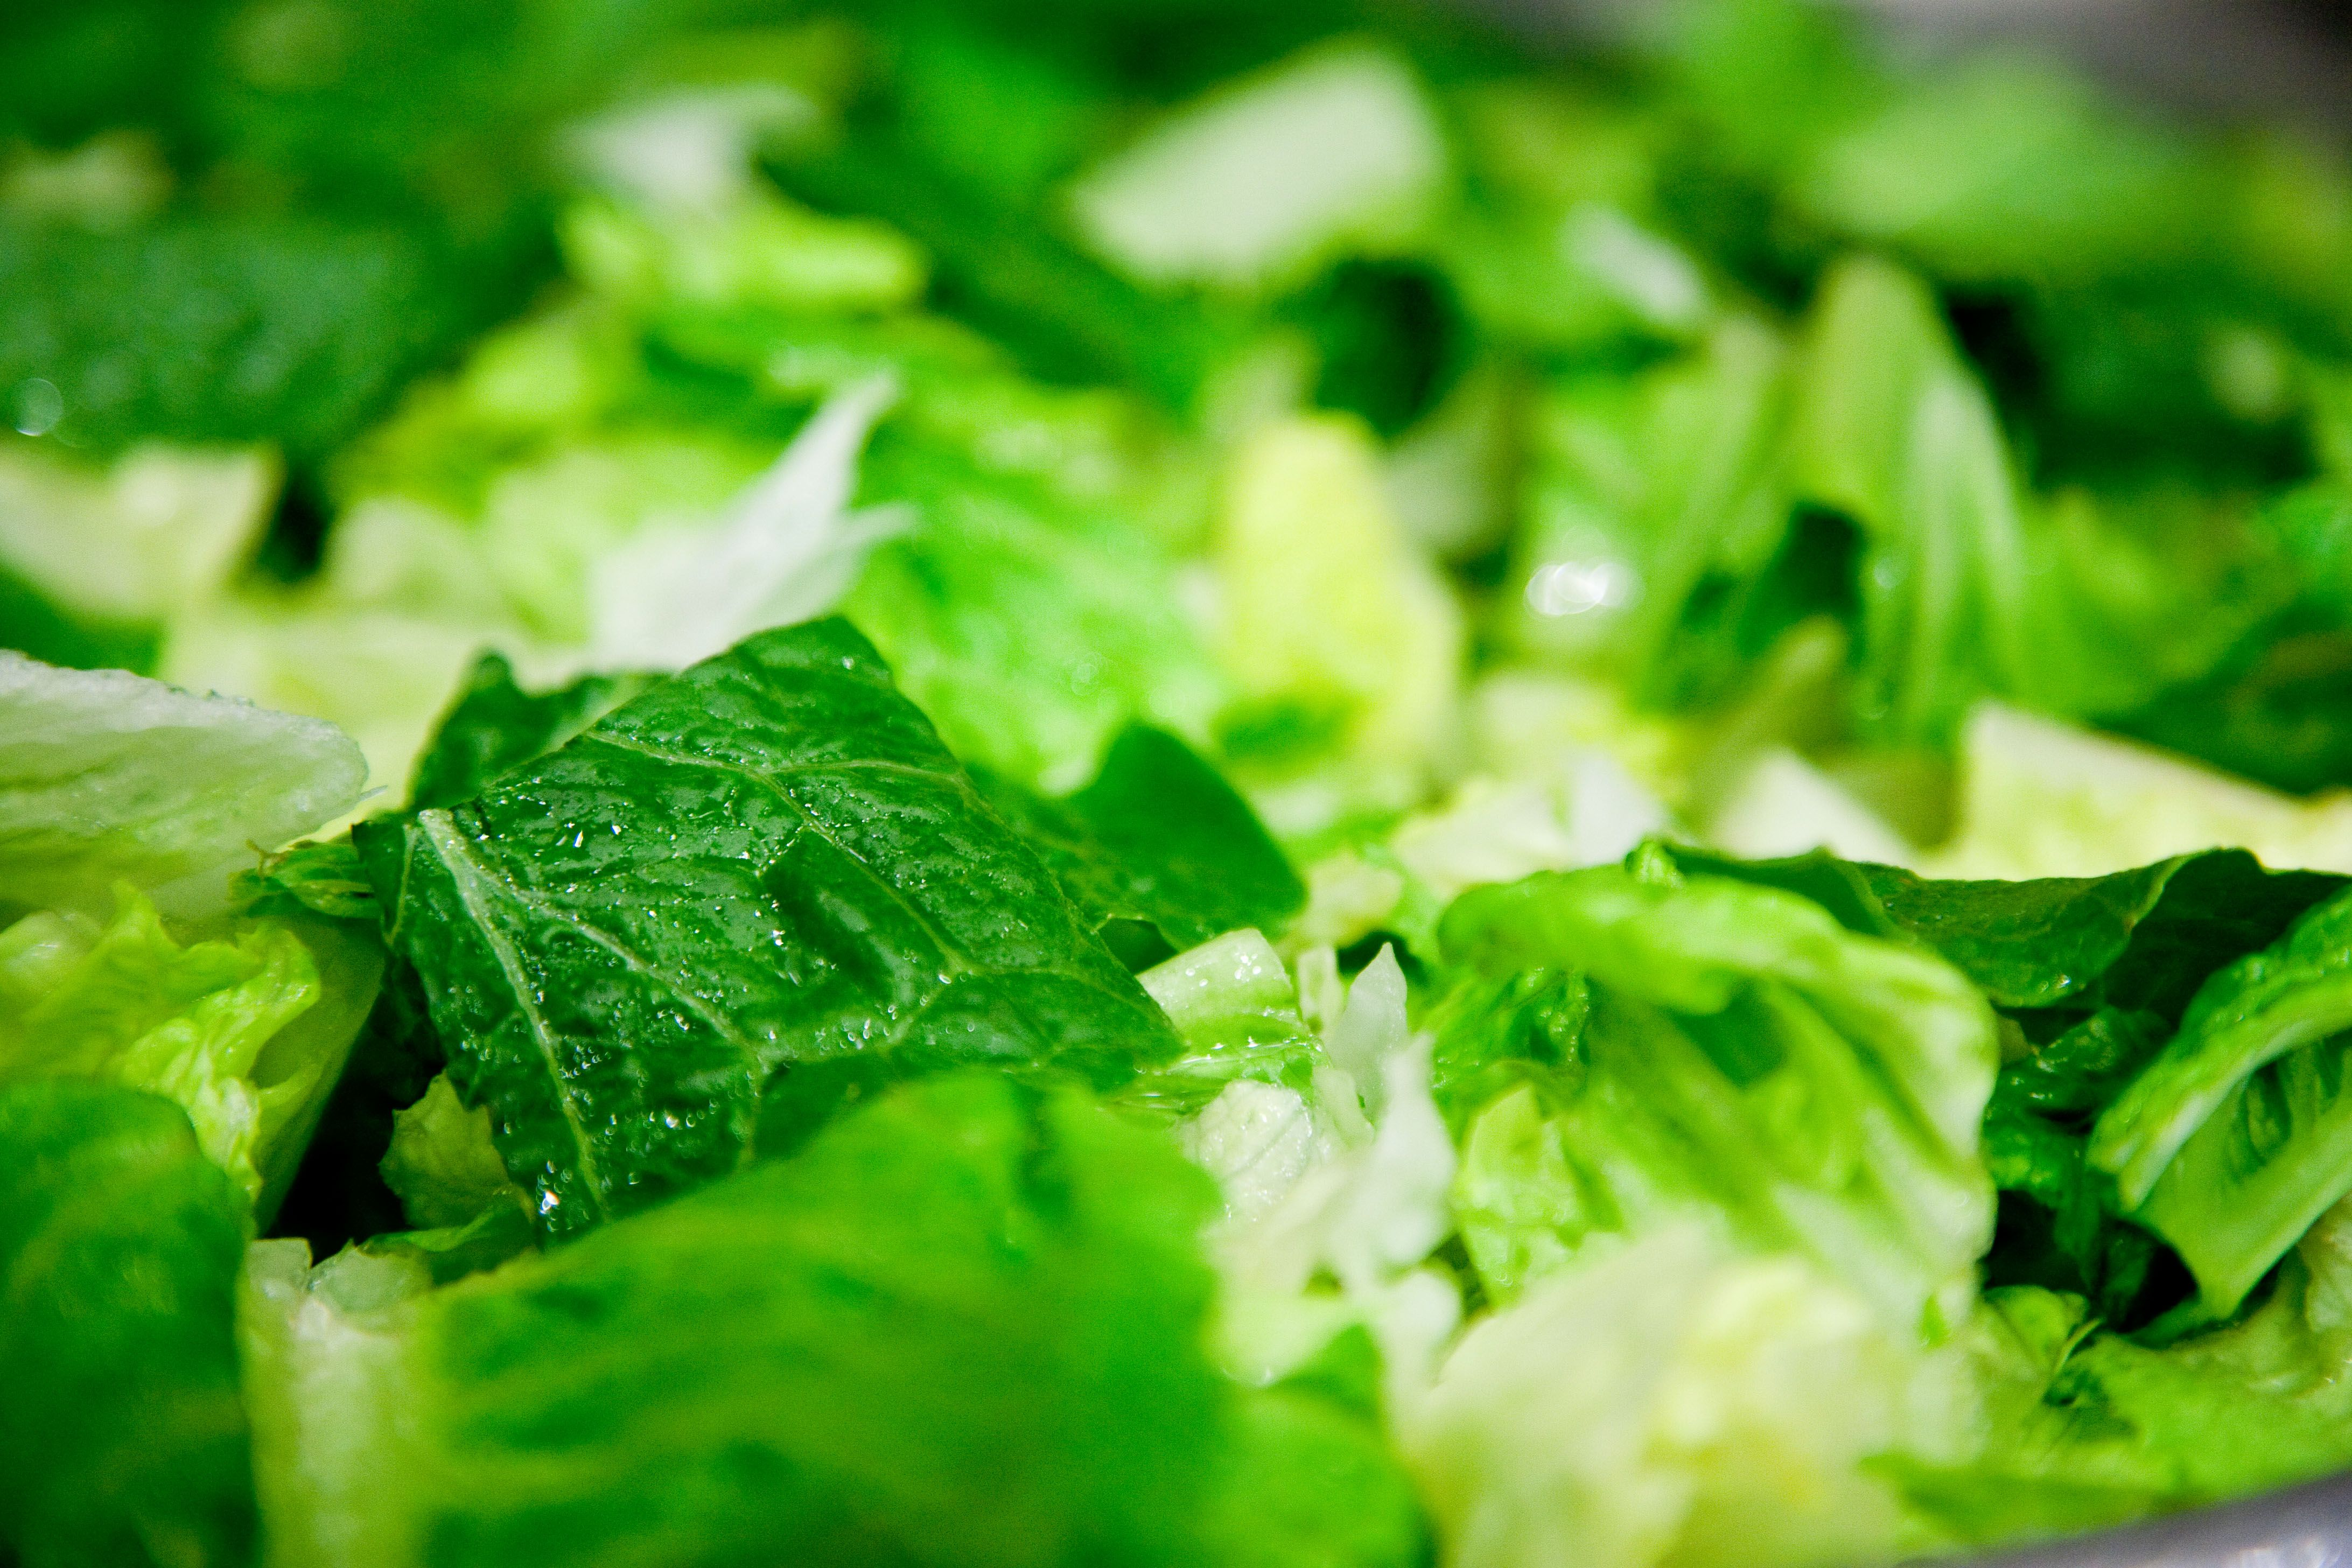chopped lettuce: (30, 630, 2327, 1557)
